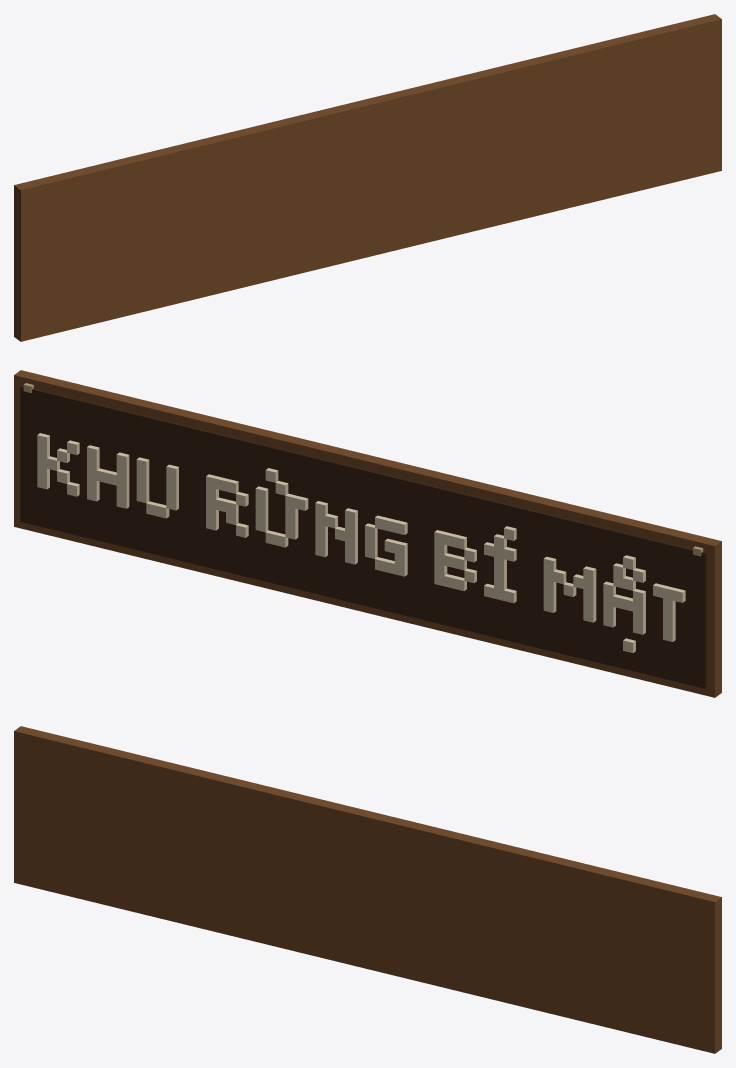
Rendered from tt-sign-khu-rung-bi-mat.glb.
3 renders of one model, top to bottom at view 1: azimuth 30°, elevation 25°; view 2: azimuth 150°, elevation 25°; view 3: azimuth 330°, elevation 25°, orthographic.
Parts seen in each view (by area): view 1: box-prop; view 2: box-prop; view 3: box-prop.
Part boxes in pixels (<box>): box-prop: <box>14,14,721,341</box>; box-prop: <box>14,370,721,697</box>; box-prop: <box>14,726,721,1053</box>.
Size of the model in its own units: 7.06 by 1.46 by 0.2.
